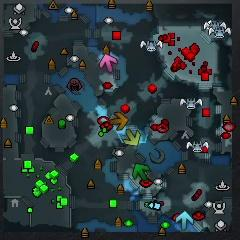x1: (98, 53, 119, 76)
x2: (122, 129, 140, 146)
x3: (177, 210, 193, 231)
x4: (131, 164, 150, 180)
x5: (109, 110, 129, 133)
